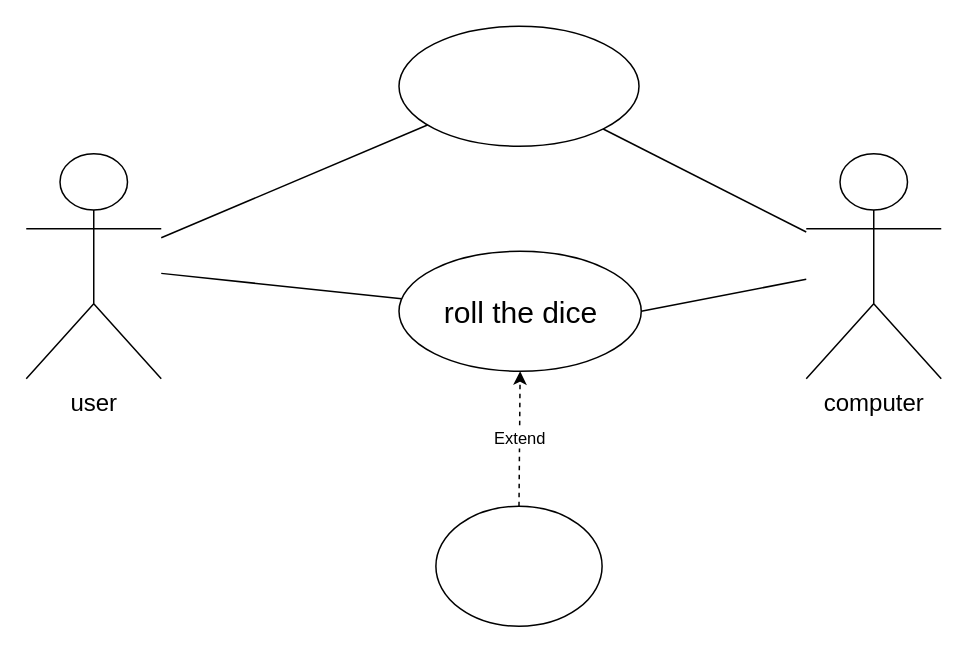
Image size: 968x653. Some labels were removed from this diagram. The shapes that lost their labels are listed below. From the top down, each one's centre as x and y in pixels, then its label:
At [518,85]: "choose the combination".
At [518,565]: "fix the dice".
